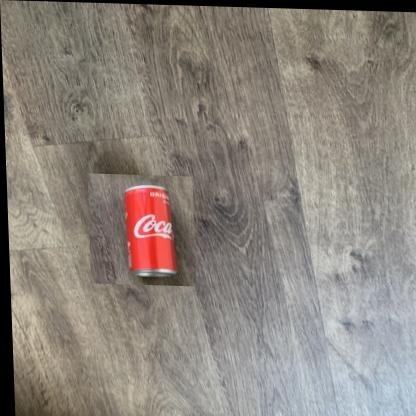trash: (125, 185, 175, 276)
